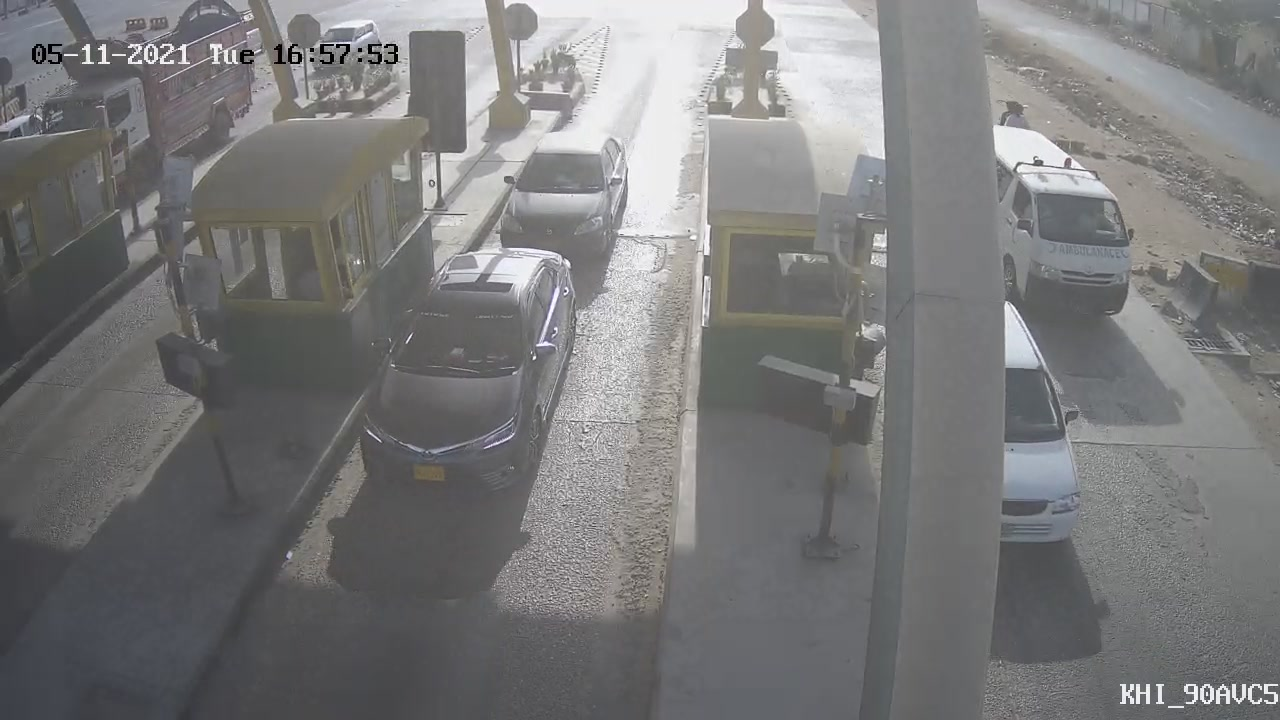F1: (340, 231, 595, 517), (486, 114, 647, 279)
